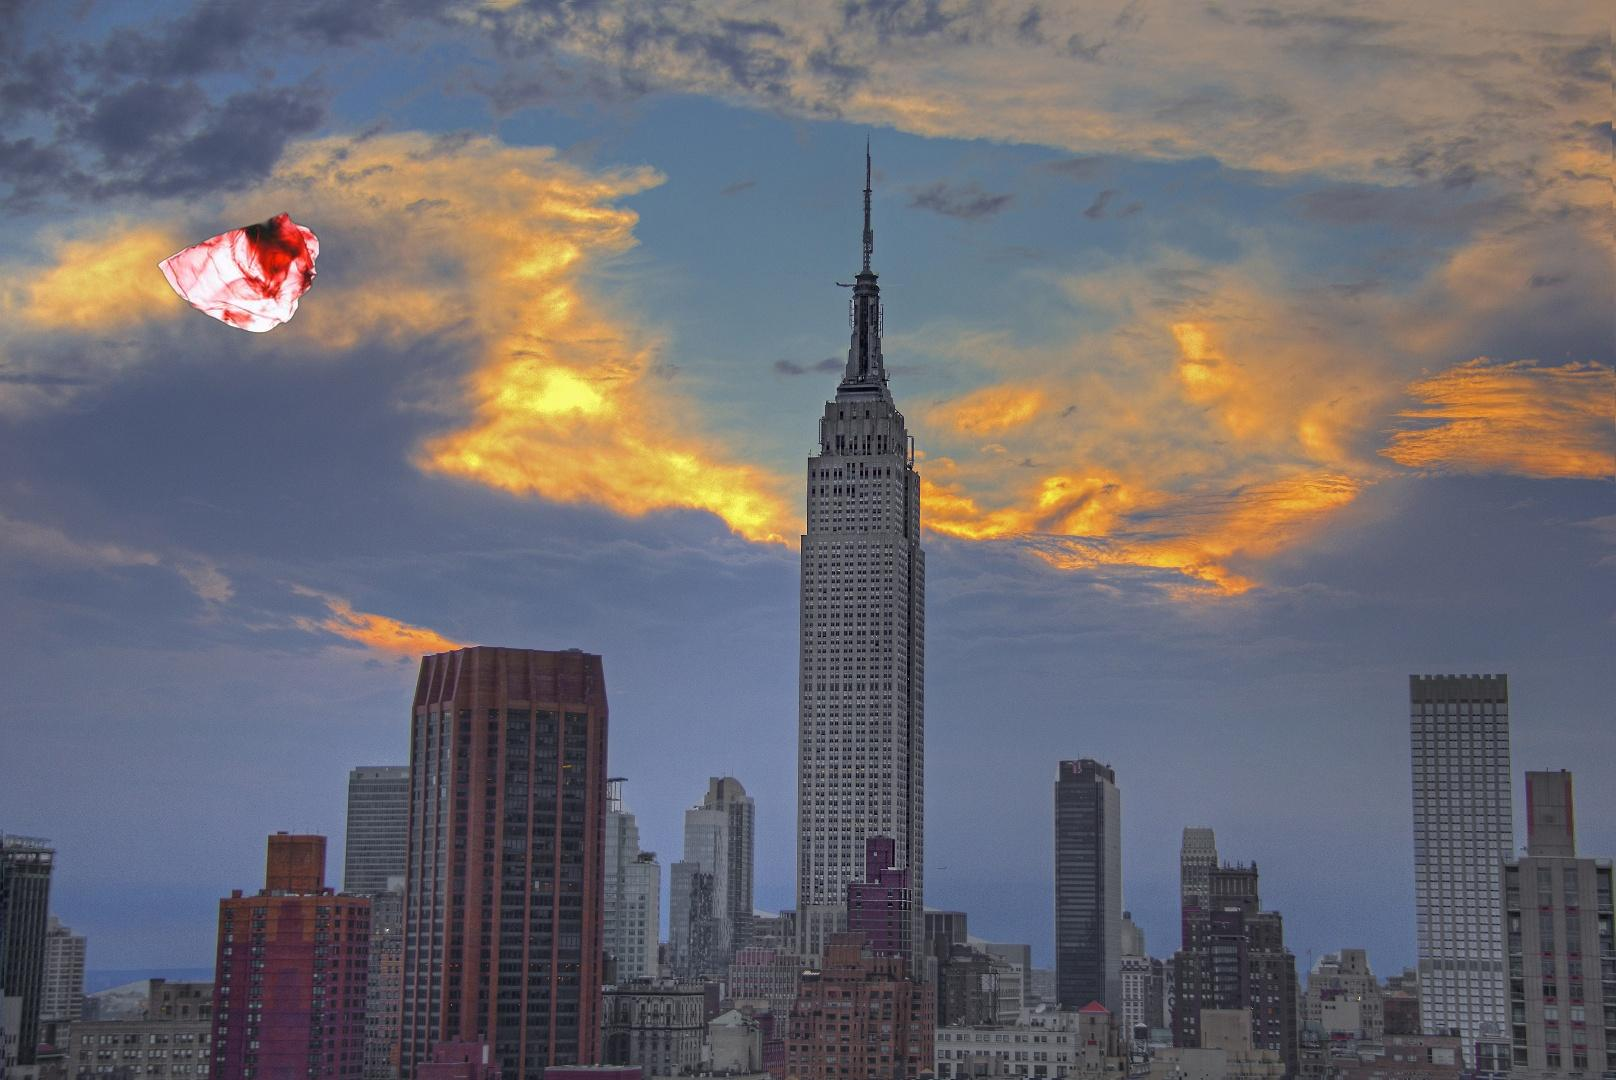plastic-bag: (154, 210, 323, 336)
